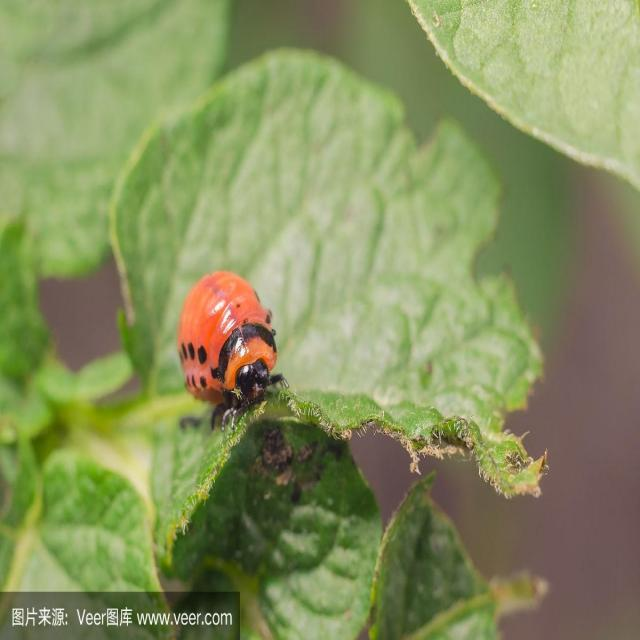ShuCaiHuaBanChong-Larva-: (165, 270, 298, 439)
